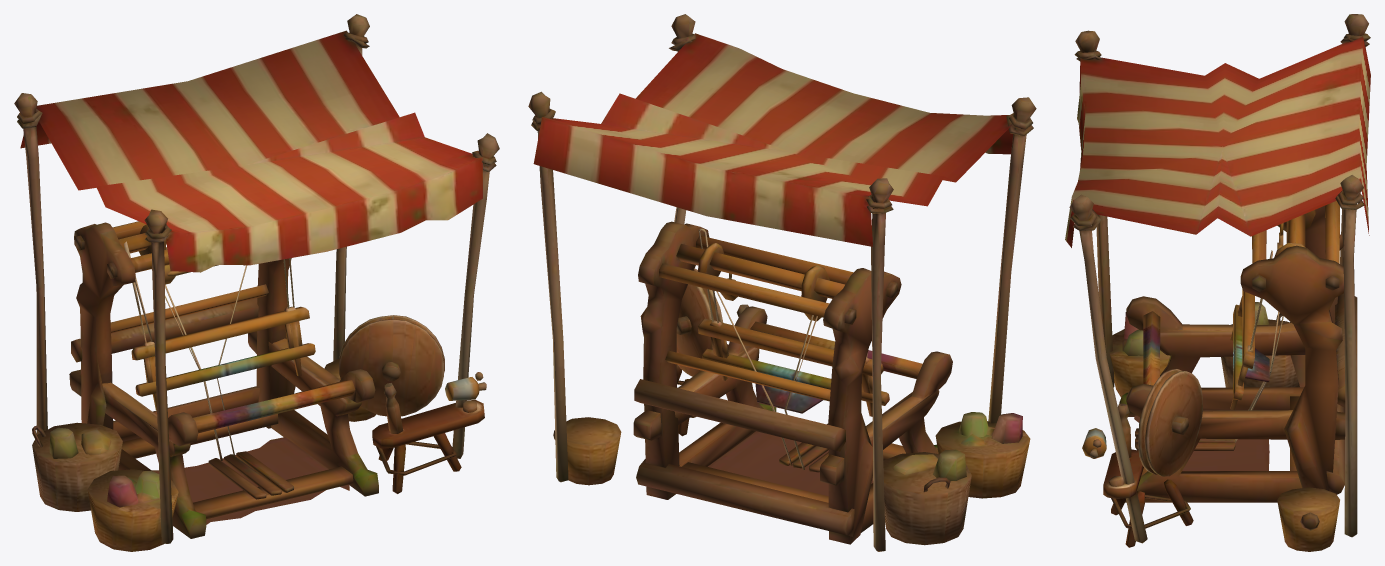
Rendered from station_loom_awning.glb.
3 views of the same model, side by side, from view 1: azimuth 30°, elevation 25°; view 2: azimuth 150°, elevation 25°; view 3: azimuth 270°, elevation 25° (orthographic). The views are drawn at different scales.
Parts seen in each view (by area): view 1: tripo_node_e889eaed-1283-42a6-88a0-167b733f3137; view 2: tripo_node_e889eaed-1283-42a6-88a0-167b733f3137; view 3: tripo_node_e889eaed-1283-42a6-88a0-167b733f3137.
Part boxes in pixels (left/top/right/bottom): tripo_node_e889eaed-1283-42a6-88a0-167b733f3137: left=14, top=14, right=499, bottom=551; tripo_node_e889eaed-1283-42a6-88a0-167b733f3137: left=528, top=14, right=1036, bottom=551; tripo_node_e889eaed-1283-42a6-88a0-167b733f3137: left=1065, top=14, right=1370, bottom=551.
Size of the model in its own units: 3.76 by 3.6 by 2.64.
1 material, 1 textured.
